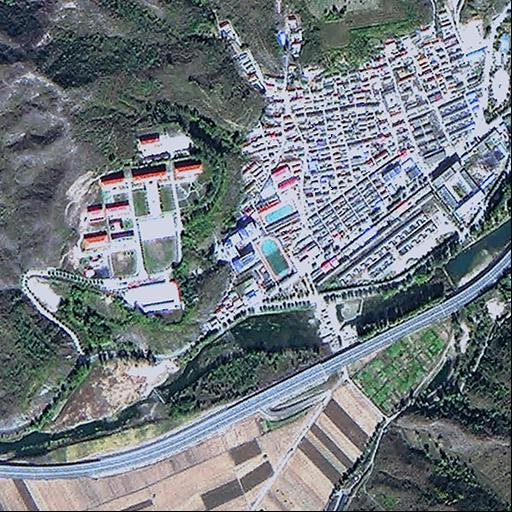school: (228, 219, 298, 290)
